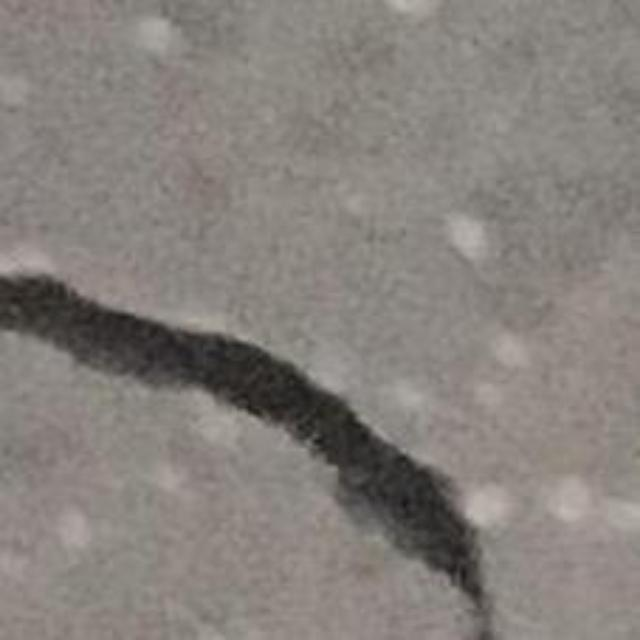crack: (0, 274, 493, 639)
